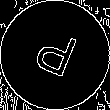P_S: (29, 25, 81, 85)
